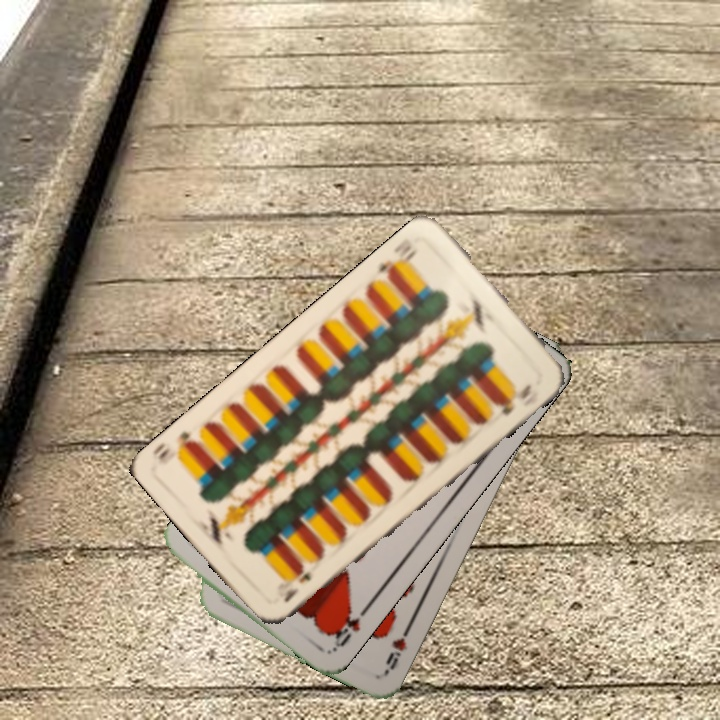E10: (373, 234, 421, 283), (280, 567, 314, 606)
H9: (380, 620, 414, 676)
HO: (325, 602, 372, 653)
